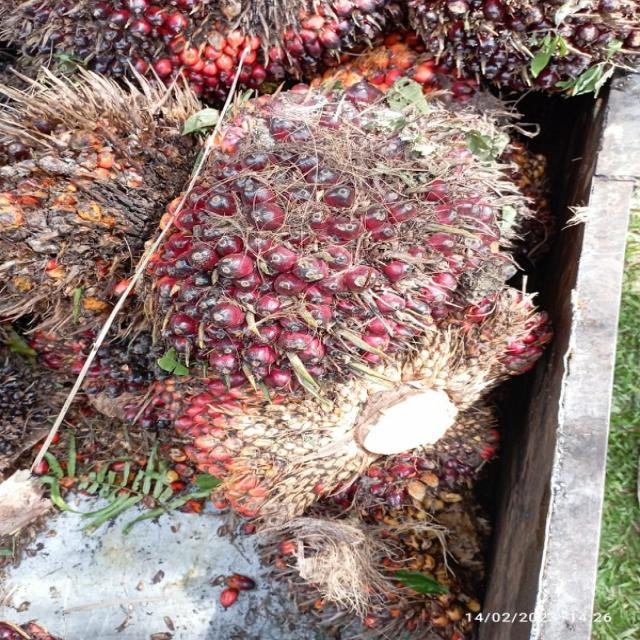fraksi 1: (124, 66, 563, 549)
